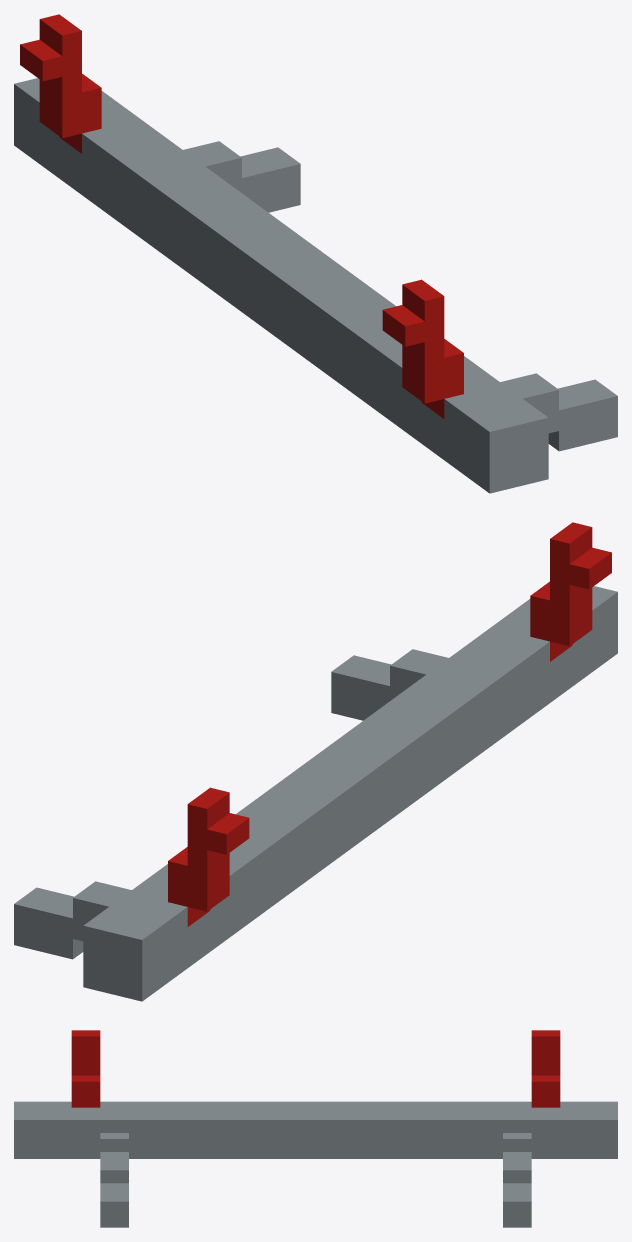
File: beach_buggy_rear_axle.glb
3 views of the same model, one above another, from view 1: azimuth 30°, elevation 25°; view 2: azimuth 150°, elevation 25°; view 3: azimuth 270°, elevation 25° (orthographic). The views are drawn at different scales.
Parts seen in each view (by area): view 1: body:compound; view 2: body:compound; view 3: body:compound.
Boxes of the visible parts, box(x1,y1,x2,y2) form: body:compound: box(14, 14, 617, 493); body:compound: box(14, 522, 617, 1001); body:compound: box(14, 1030, 617, 1227).
Size of the model in its own units: 0.375 by 0.3125 by 1.31.
